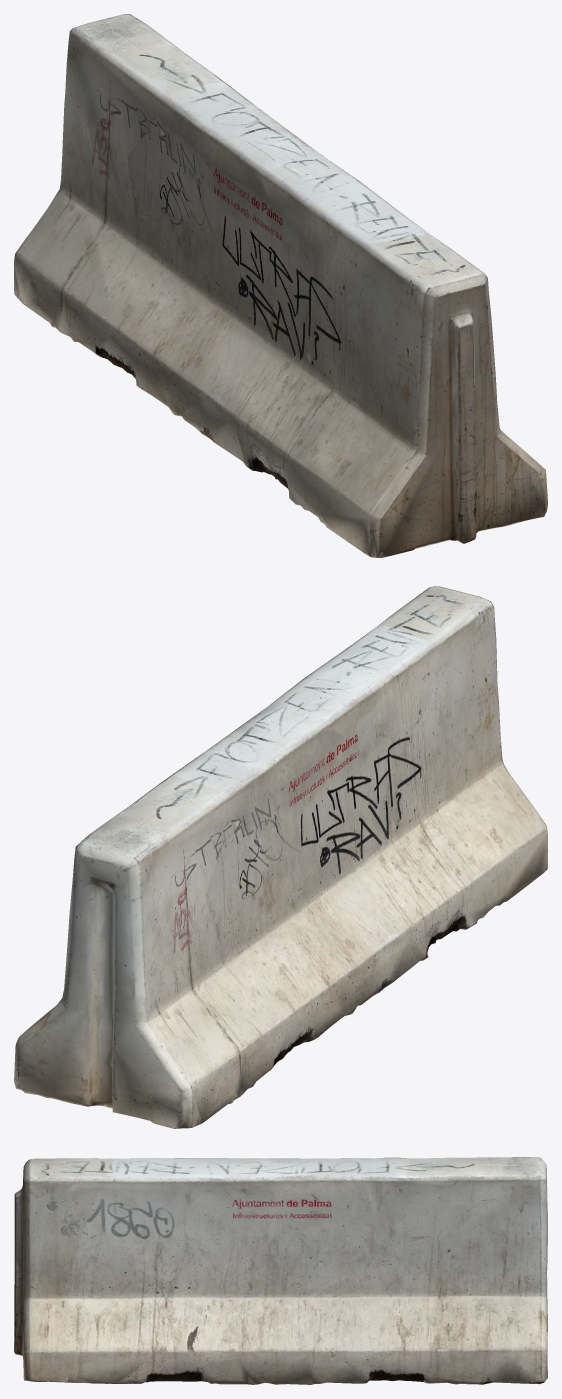
The model's file is concrete-barrier-scan.glb.
3 renders of one model, top to bottom at view 1: azimuth 30°, elevation 25°; view 2: azimuth 150°, elevation 25°; view 3: azimuth 270°, elevation 25°, orthographic. The views are drawn at different scales.
Parts seen in each view (by area): view 1: road_barrier_mid_poly_concreteRoadBarrier_low_0; view 2: road_barrier_mid_poly_concreteRoadBarrier_low_0; view 3: road_barrier_mid_poly_concreteRoadBarrier_low_0.
Part boxes in pixels (box(x1,y1,x2,y2)): road_barrier_mid_poly_concreteRoadBarrier_low_0: box(14, 14, 547, 557); road_barrier_mid_poly_concreteRoadBarrier_low_0: box(14, 586, 547, 1128); road_barrier_mid_poly_concreteRoadBarrier_low_0: box(14, 1157, 547, 1384).
Bounding box in the file's own units: 0.5793 × 0.791 × 2.05.
1 material, 1 textured.
